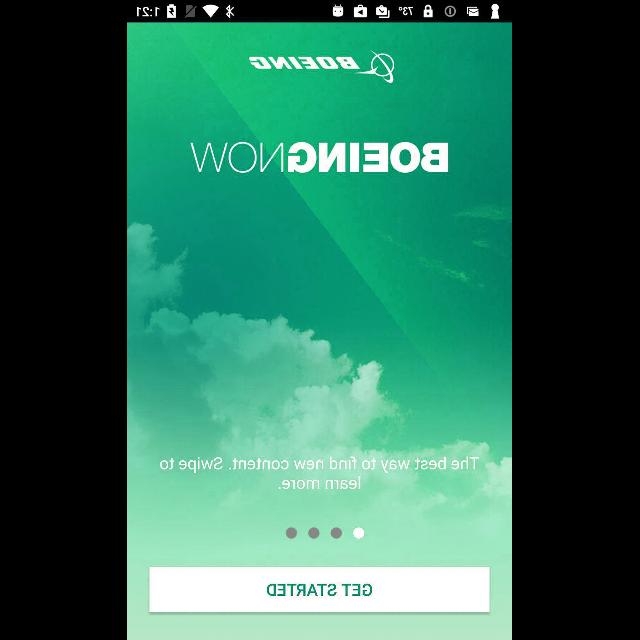backgroundimage: (128, 22, 512, 640)
image: (191, 142, 449, 172), (250, 48, 396, 82)
pageindicator: (286, 526, 366, 540)
text: (160, 456, 480, 490)
textbutton: (150, 567, 490, 613)
uppertaskbar: (128, 1, 512, 23)
